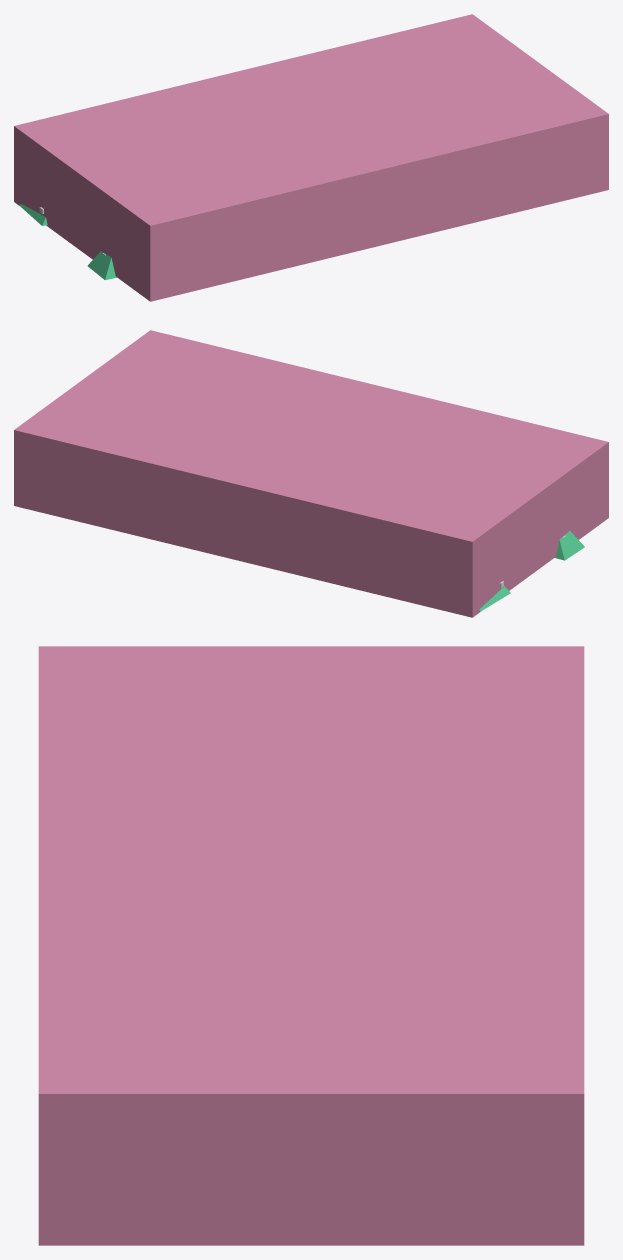
Rendered from ind_rubbish_01_d.dae.
3 views of the same model, one above another, from view 1: azimuth 30°, elevation 25°; view 2: azimuth 150°, elevation 25°; view 3: azimuth 270°, elevation 25° (orthographic). The views are drawn at different scales.
Visible parts, largest first — view 1: Untitled, Colmesh-1; view 2: Untitled, Colmesh-1; view 3: Untitled.
Part boxes in pixels (<box>): Untitled: <box>14,14,608,301</box>; Colmesh-1: <box>19,204,116,280</box>; Untitled: <box>14,330,608,617</box>; Colmesh-1: <box>479,531,584,611</box>; Untitled: <box>38,646,584,1245</box>.
Size of the model in its own units: 2.88 by 1.45 by 0.4523.
